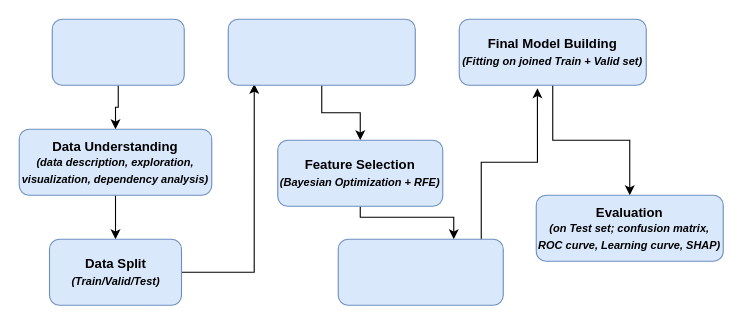
Image size: 743x325. Some labels were removed from this diagram. The box of each missing label's shape, as (x1, y1, x2, y2) in pixels:
Data Import: (51, 18, 184, 85)
Feature Preprocessing (Optimal Binning + WoE Encoding): (227, 18, 415, 85)
Final Model Selection (Bayesian Optimization + Evaluation on Valid set): (337, 238, 503, 305)
